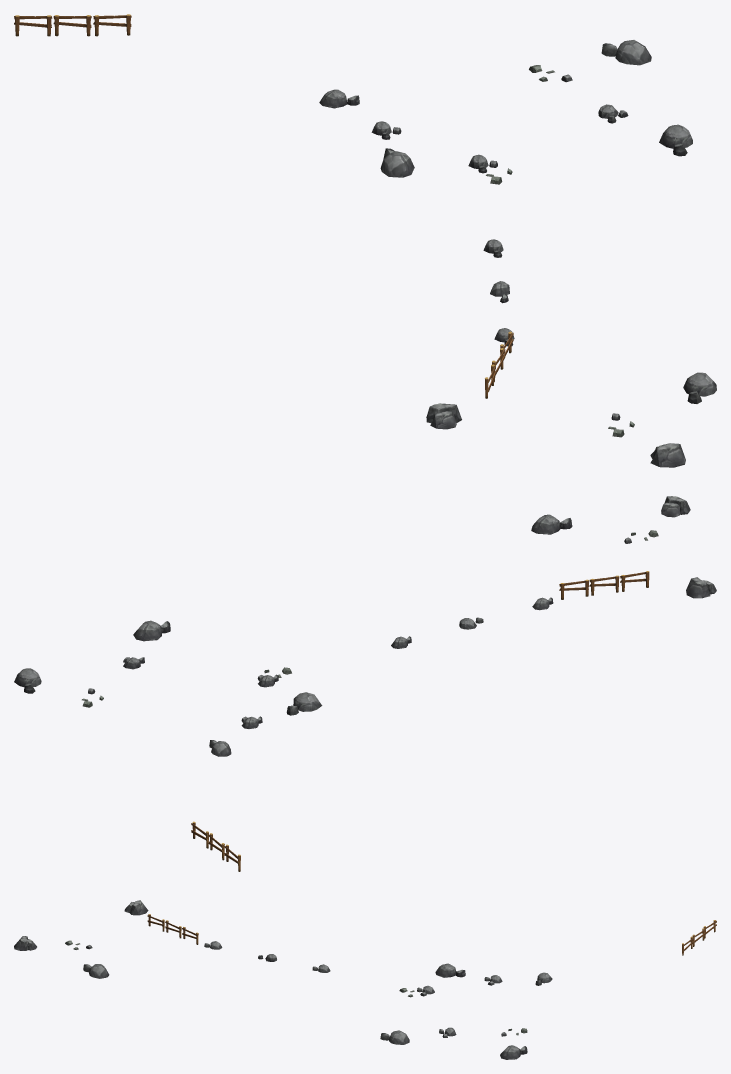
File: wujian11_1.fbx
3 renders of one model, top to bottom at view 1: azimuth 30°, elevation 25°; view 2: azimuth 150°, elevation 25°; view 3: azimuth 270°, elevation 25°, orthographic. The views are drawn at different scales.
Parts seen in each view (by area): view 1: wujian11_1; view 2: wujian11_1; view 3: wujian11_1.
Boxes of the visible parts, <box> form: wujian11_1: <box>14,14,716,467</box>; wujian11_1: <box>14,496,716,871</box>; wujian11_1: <box>14,900,716,1059</box>.
Bounding box in the file's own units: 3604 × 140 × 6986.
